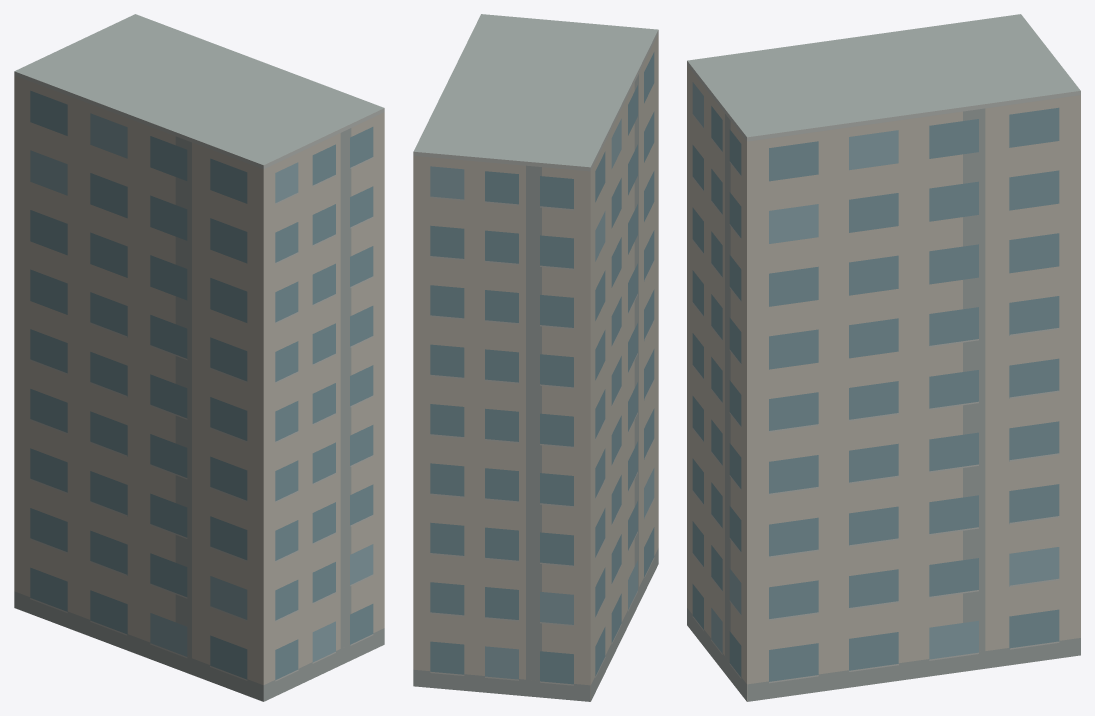
File: residential-6eef4e50-fca4-410e-9122-d61ce3ce3d11.glb
3 views of the same model, side by side, from view 1: azimuth 30°, elevation 25°; view 2: azimuth 150°, elevation 25°; view 3: azimuth 270°, elevation 25° (orthographic). The views are drawn at different scales.
Parts seen in each view (by area): view 1: residential-6eef4e50-fca4-410e-9122-d61ce3ce3d11.tmp; view 2: residential-6eef4e50-fca4-410e-9122-d61ce3ce3d11.tmp; view 3: residential-6eef4e50-fca4-410e-9122-d61ce3ce3d11.tmp.
Boxes of the visible parts, <box> form: residential-6eef4e50-fca4-410e-9122-d61ce3ce3d11.tmp: <box>14,14,384,701</box>; residential-6eef4e50-fca4-410e-9122-d61ce3ce3d11.tmp: <box>413,14,658,701</box>; residential-6eef4e50-fca4-410e-9122-d61ce3ce3d11.tmp: <box>687,14,1080,701</box>.
Bounding box in the file's own units: 15 × 32 × 20.24.
